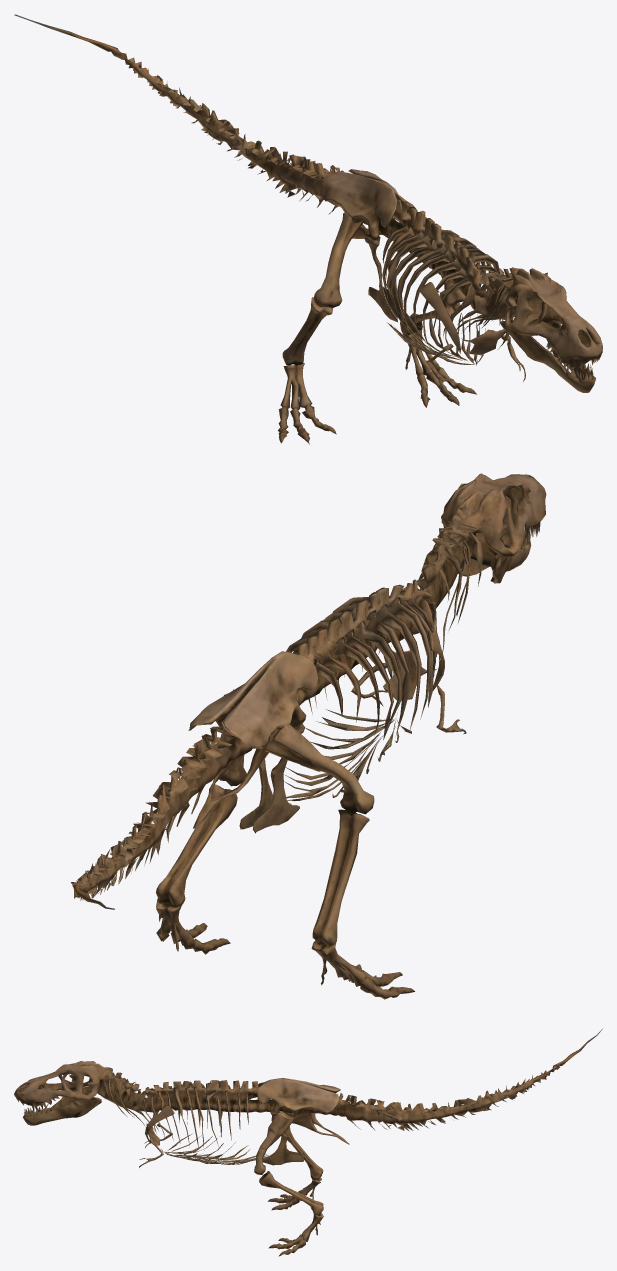
Rendered from trex.glb.
The picture shows the model from 3 angles, top to bottom: view 1: azimuth 30°, elevation 25°; view 2: azimuth 150°, elevation 25°; view 3: azimuth 270°, elevation 25°; orthographic projection. The views are drawn at different scales.
Visible parts, largest first — view 1: trex; view 2: trex; view 3: trex.
Part boxes in pixels (bbox=[...]): trex: bbox=[14, 14, 602, 444]; trex: bbox=[71, 473, 546, 999]; trex: bbox=[14, 1028, 602, 1256].
Bounding box in the file's own units: 3.25 × 3.74 × 12.04.
1 material, 1 textured.
